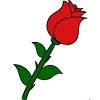rose: (46, 1, 89, 49)
